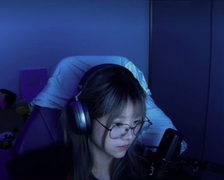person: (8, 56, 188, 179)
